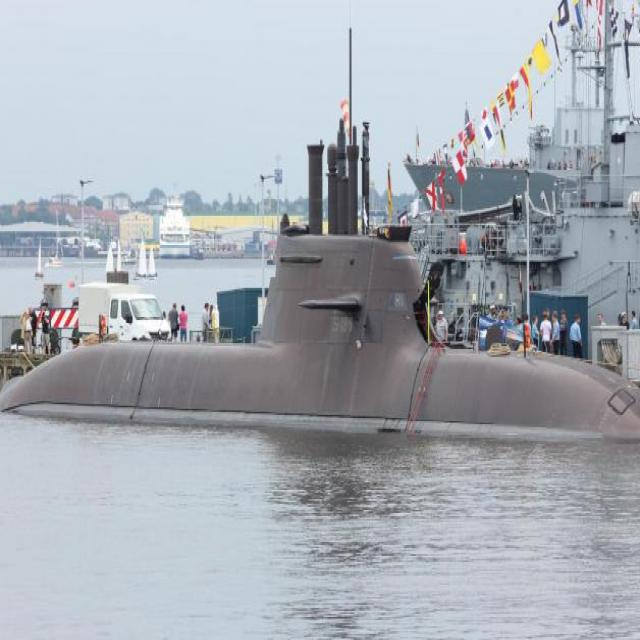submarine: (4, 105, 640, 421)
